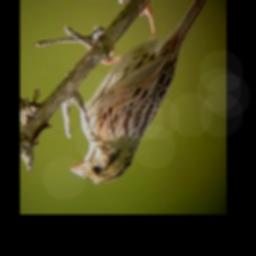Sparrow: (69, 0, 220, 187)
